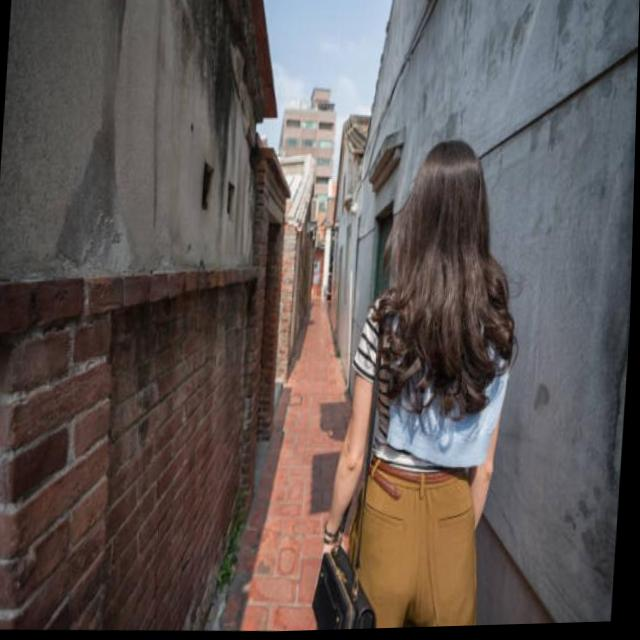no helmet: (382, 137, 520, 374)
